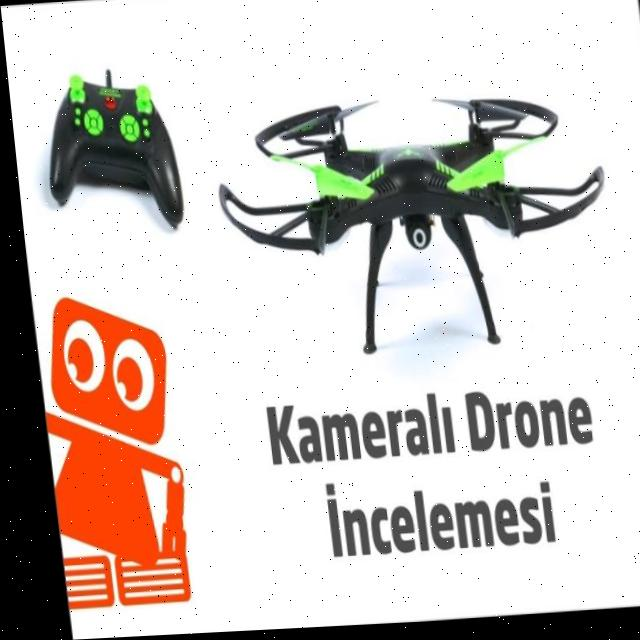drones: (195, 62, 630, 389)
